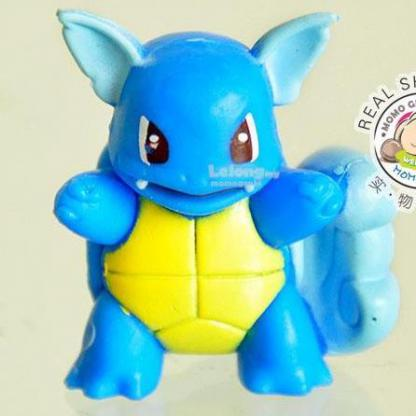Wartortle: (34, 1, 357, 415)
